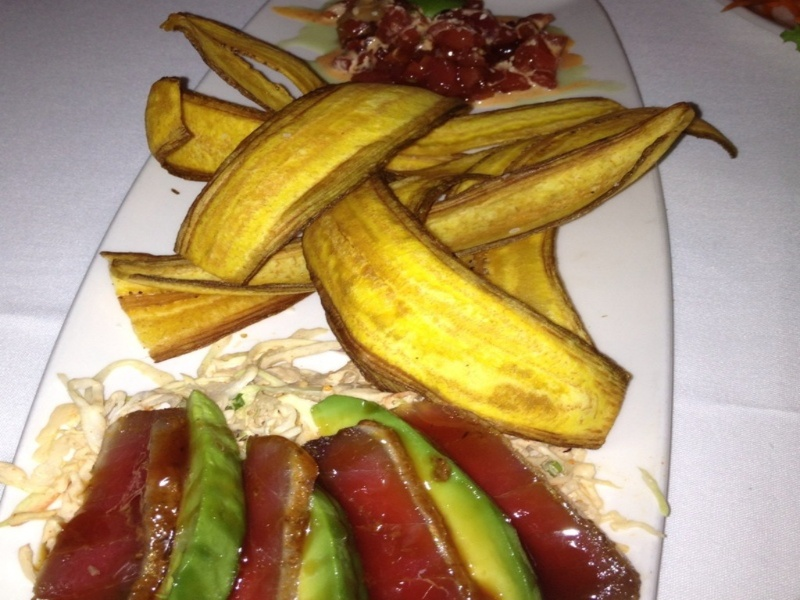banana: (119, 73, 713, 413)
